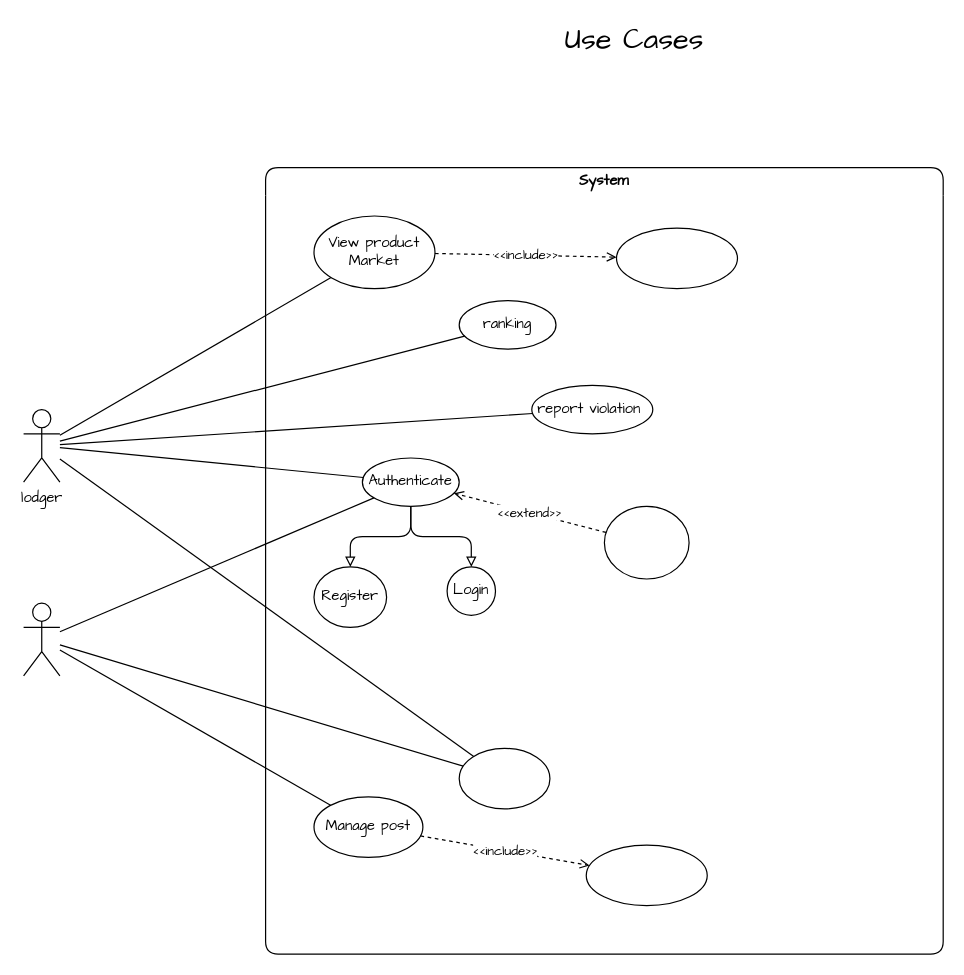
This 964x975 diagram has some shape labels left out. Here are the shapes that lost their labels. From the top down, the centre of each, then its label:
At point 676,258: "Open post".
At point 646,542: "Social Login".
At point 41,639: "lessor".
At point 504,778: "Contact lessor".
At point 646,875: "Reposte server".
